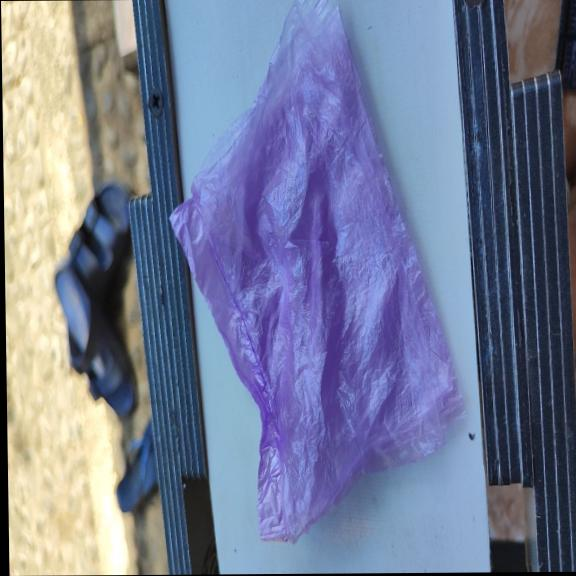Plastik: (163, 0, 468, 544)
